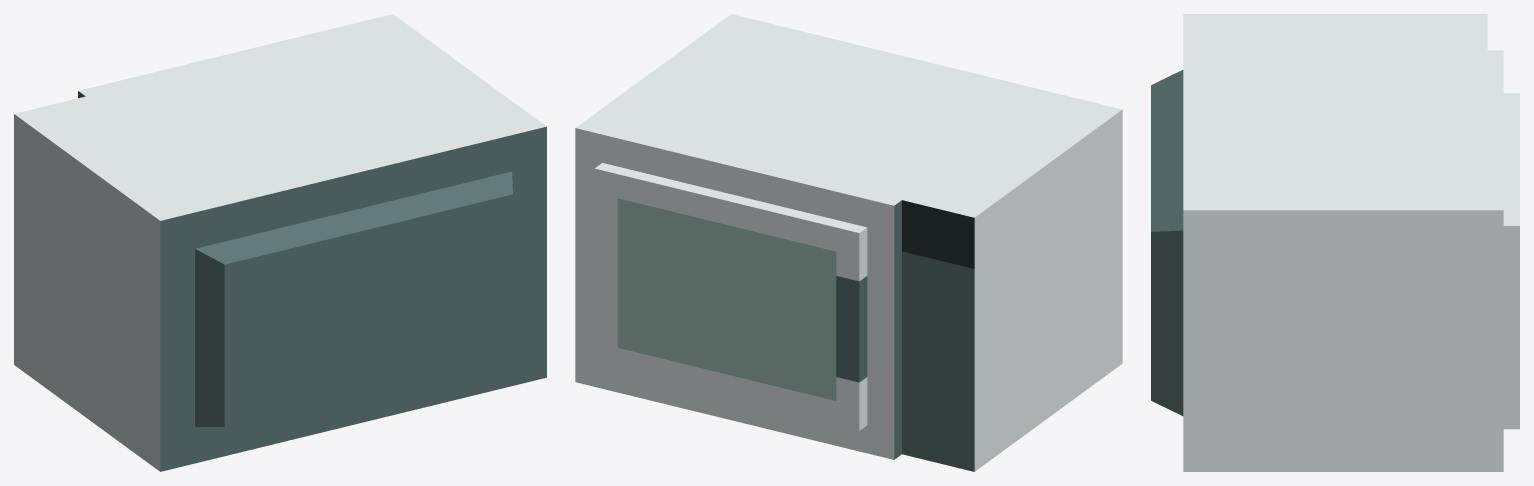
File: kitchenMicrowave.glb
3 views of the same model, side by side, from view 1: azimuth 30°, elevation 25°; view 2: azimuth 150°, elevation 25°; view 3: azimuth 270°, elevation 25° (orthographic). The views are drawn at different scales.
Bounding box in the file's own units: 2.9 × 1.8 × 2.3.
